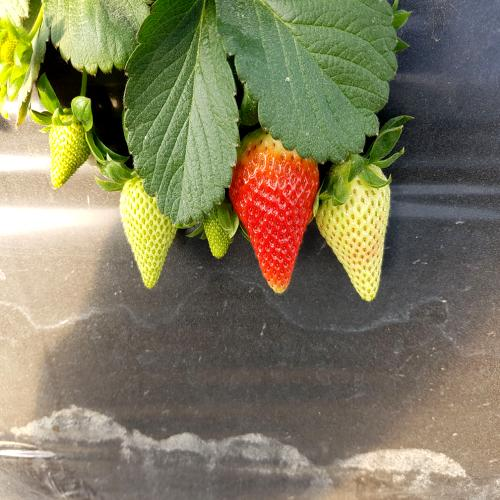partially-ripe: (227, 124, 321, 317)
